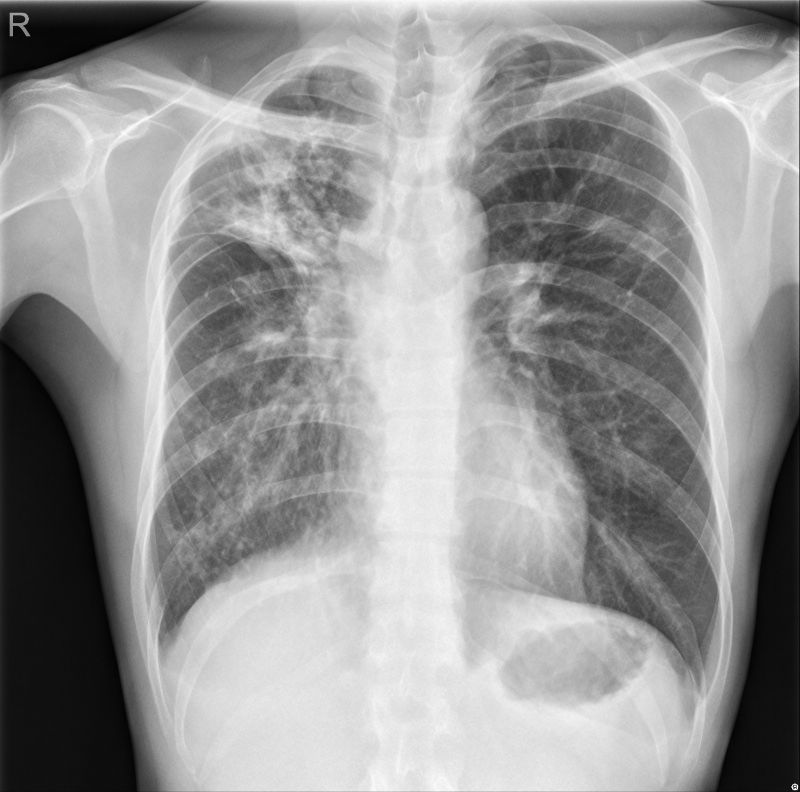Tuberculosis (TB): (215, 107, 328, 291), (216, 317, 291, 496), (573, 184, 674, 277)
